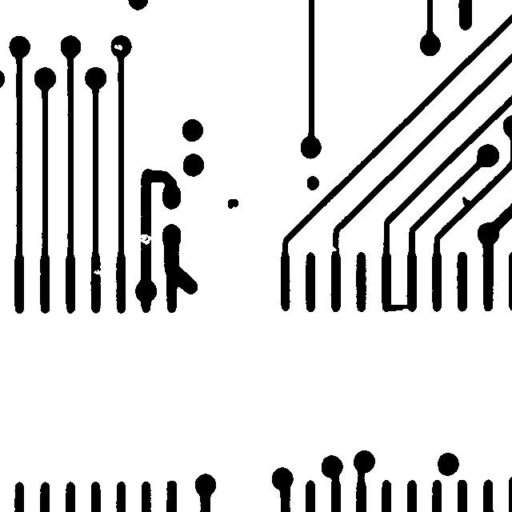copper: (220, 191, 246, 216)
mousebite: (86, 262, 109, 282), (322, 238, 344, 258)
open: (131, 226, 160, 252)
pin-hole: (106, 37, 130, 58)
short: (376, 297, 418, 319)
spur: (454, 189, 478, 216)
